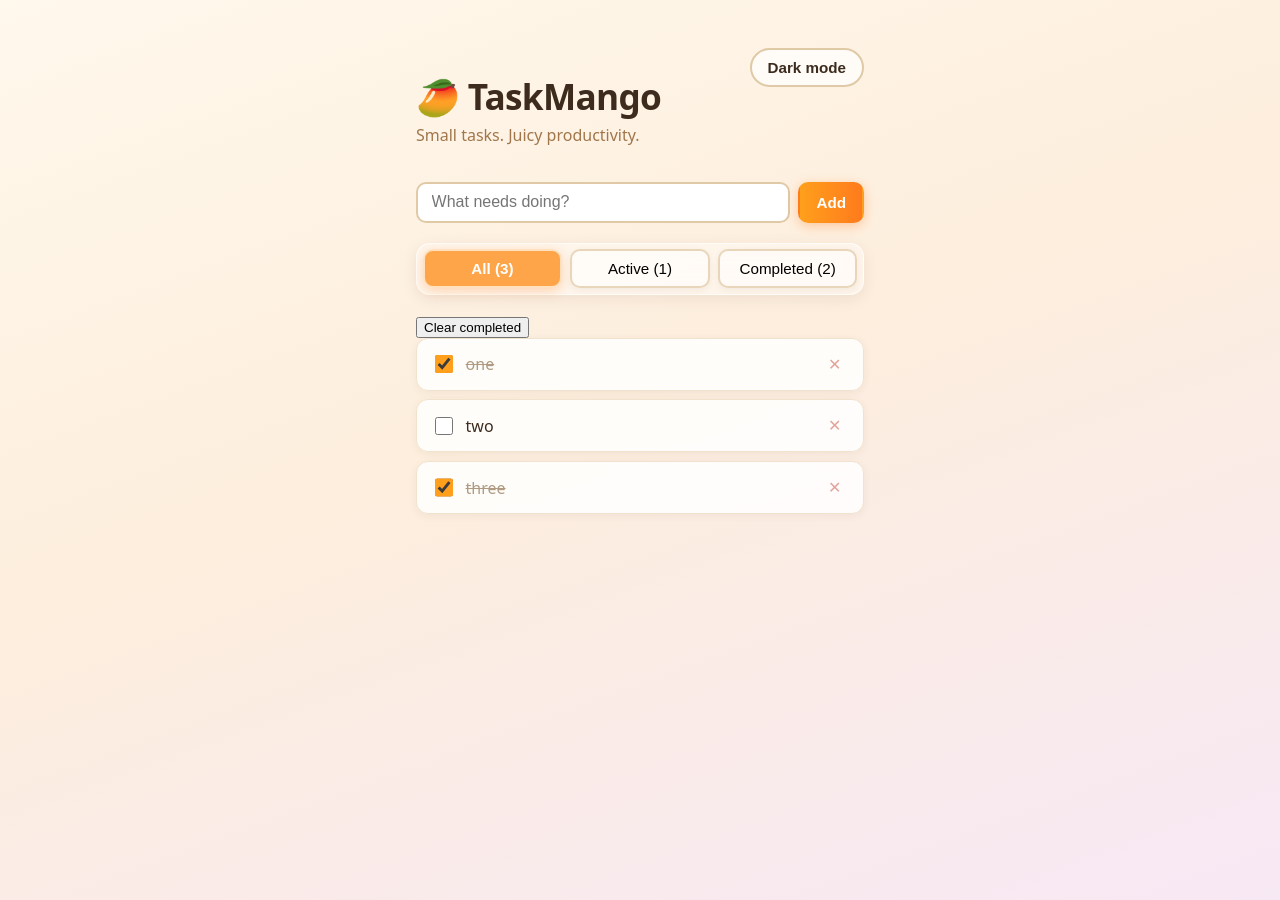
it: App › removes all completed tasks when the clear completed button is clicked
The width and height of the screenshot is (1280, 900).
Click the button "Clear completed".
click(472, 327)  # box [416,316,529,338]
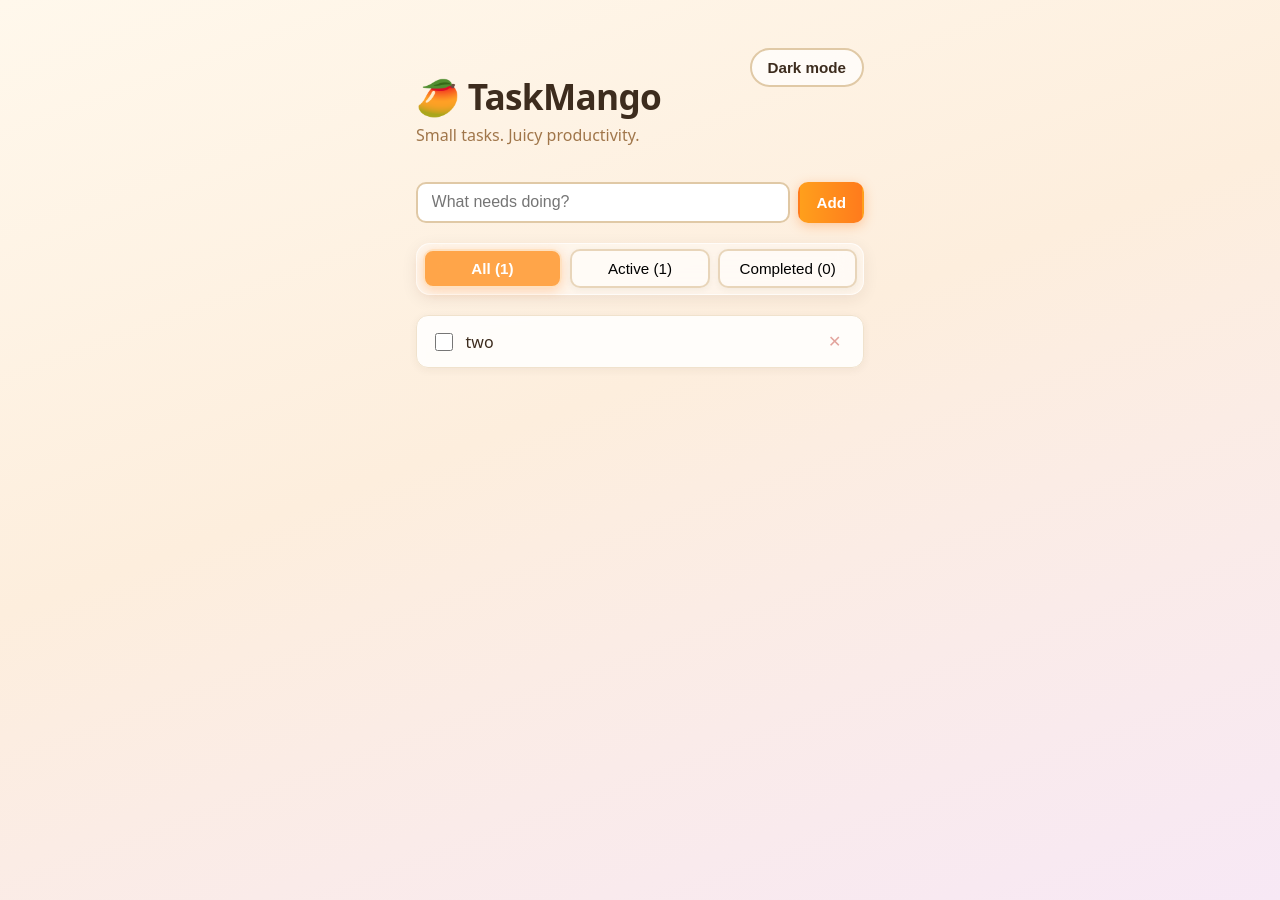
Check: the text "one" is gone
Check: the text "three" is gone
Check: the button "Clear completed" is gone
